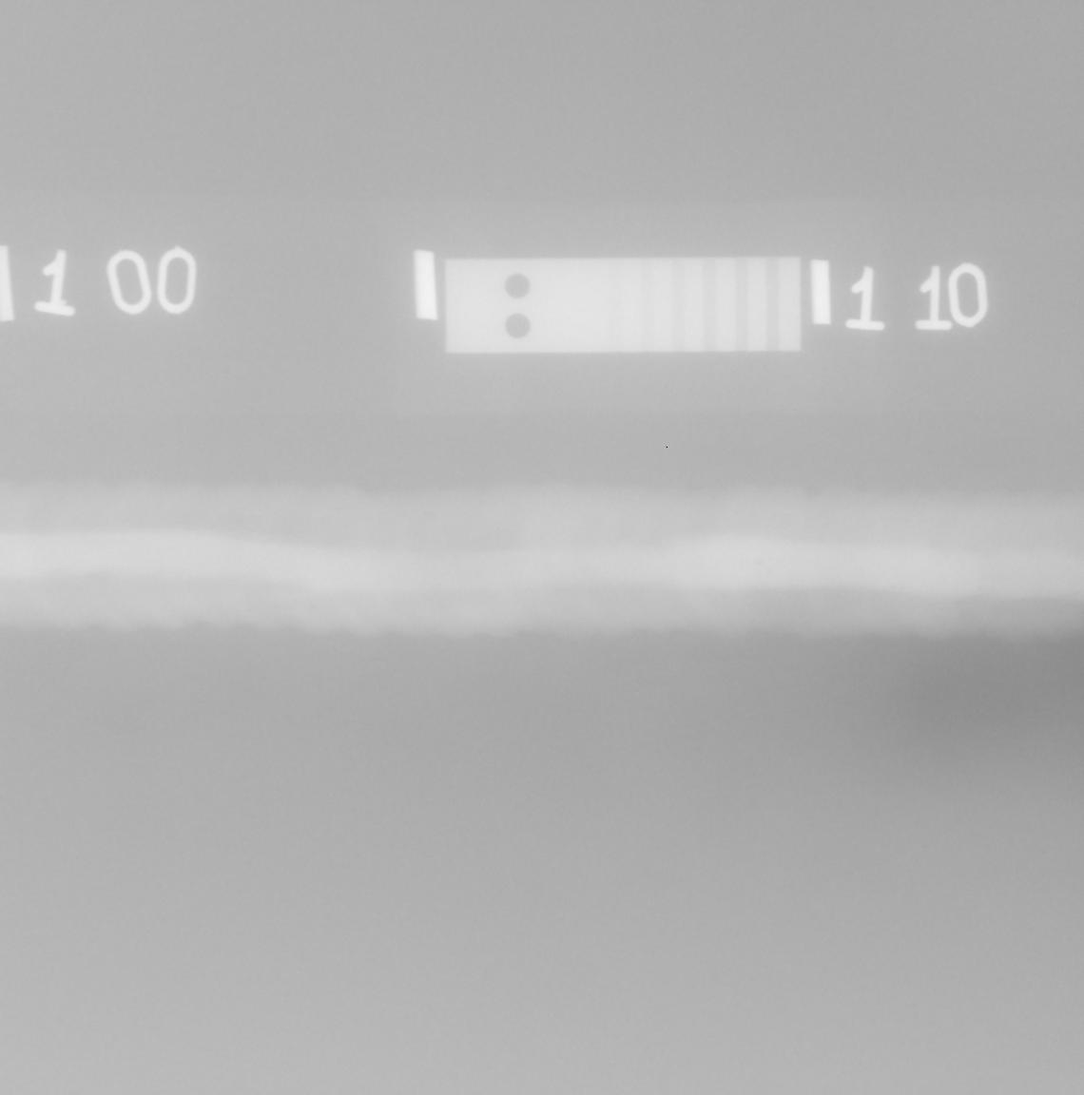Inclusion: (332, 506, 364, 512)
Pore/Porosity: (423, 509, 439, 519), (752, 558, 764, 567), (977, 585, 983, 591), (769, 568, 772, 572)
Reference Standard 2: (444, 254, 803, 356)
